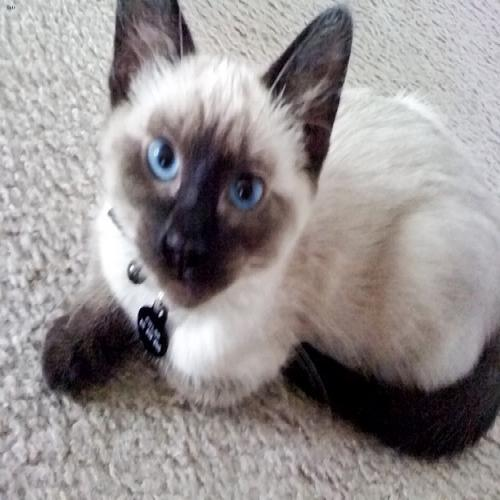siamese: (90, 1, 367, 335)
